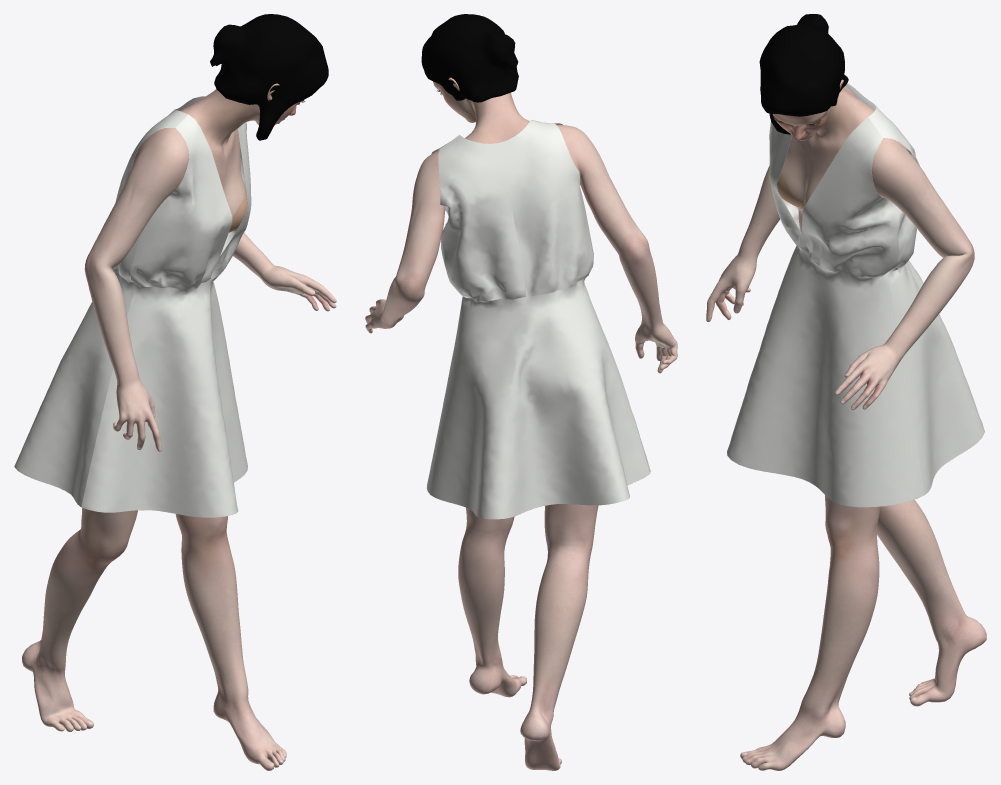
Rendered from random.obj.
3 views of the same model, side by side, from view 1: azimuth 30°, elevation 25°; view 2: azimuth 150°, elevation 25°; view 3: azimuth 270°, elevation 25° (orthographic). The views are drawn at different scales.
Size of the model in its own units: 741 by 1739 by 590.
